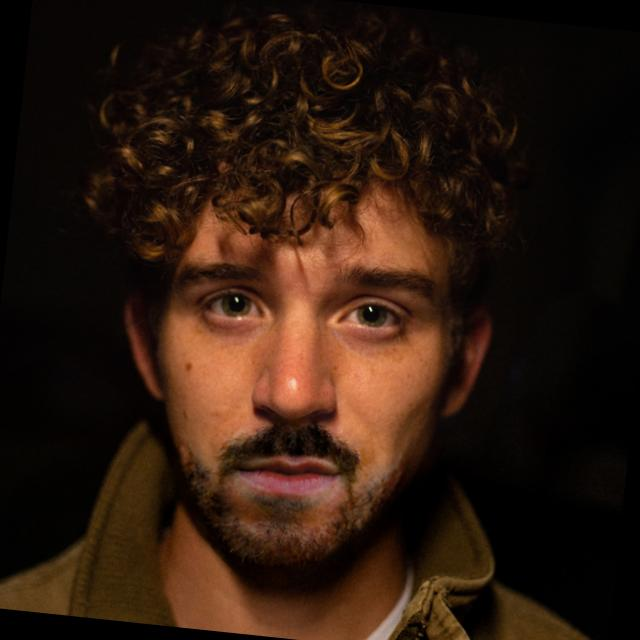face: (120, 136, 492, 601)
